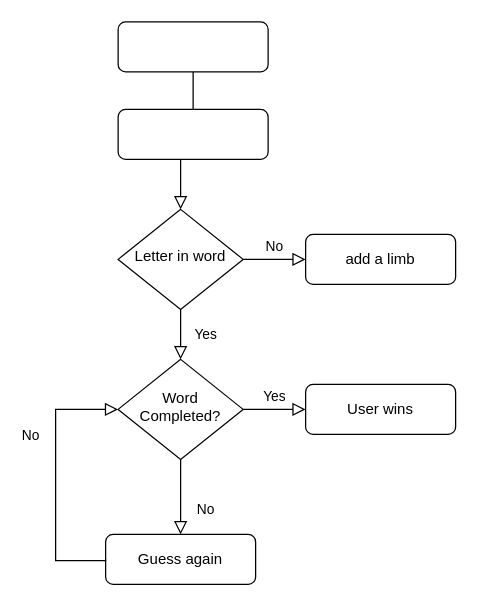
The diagram is 478 pixels wide and 606 high, and some of its shapes have lost their labels. The shapes that lost their labels are listed below. From the top down, each one's box as (x1, y1, x2, y2) in pixels, then its label:
(117, 21, 268, 72): Hangman
(117, 108, 268, 159): User Guesses a letter
